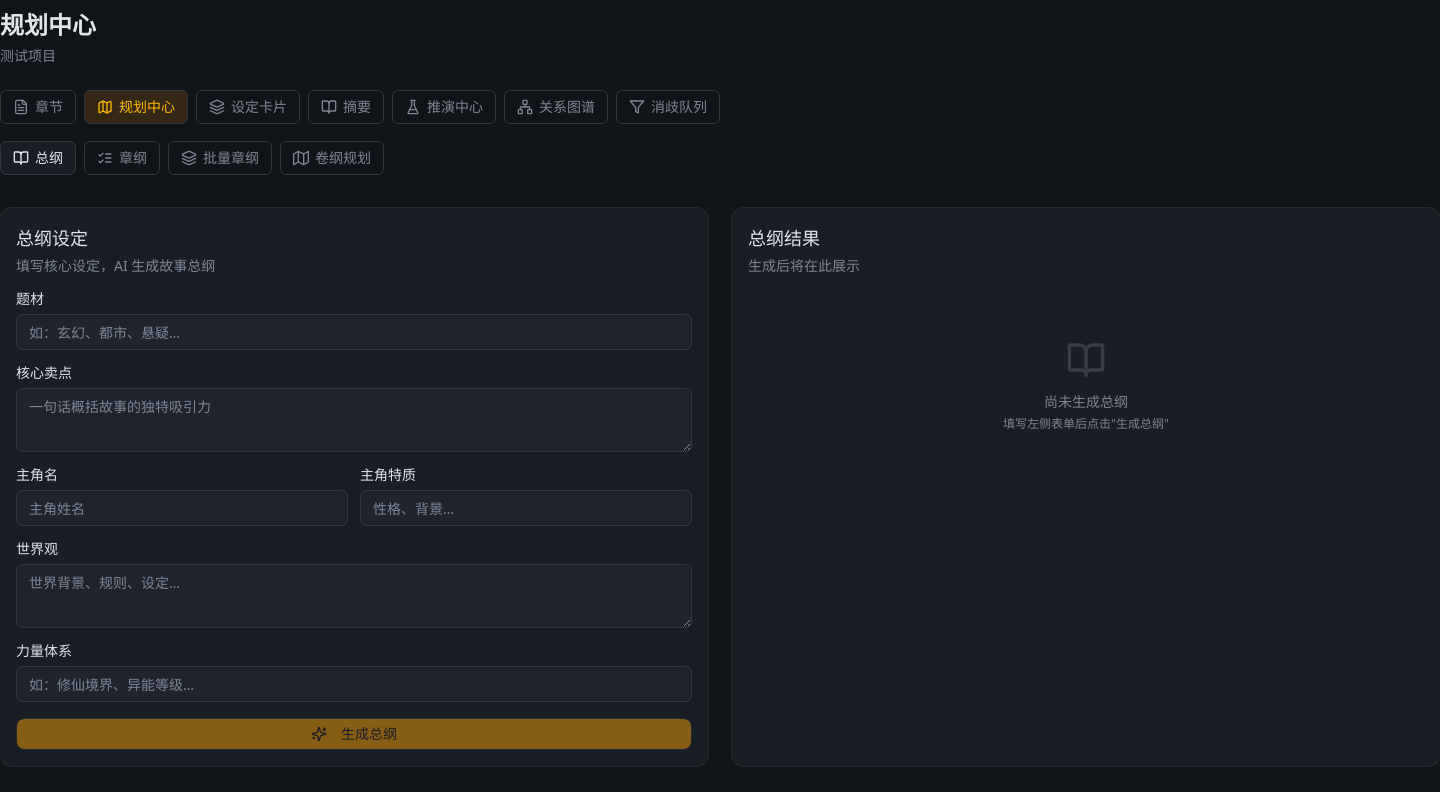
PlanningCenter › batch: shows results after generation
expect the text "测试项目" is shown: met, box top-left (0, 46), bottom-right (56, 65)
Click the tab "批量章纲". click: (220, 158)
box: top-left (168, 141), bottom-right (272, 175)
(page scrolled)
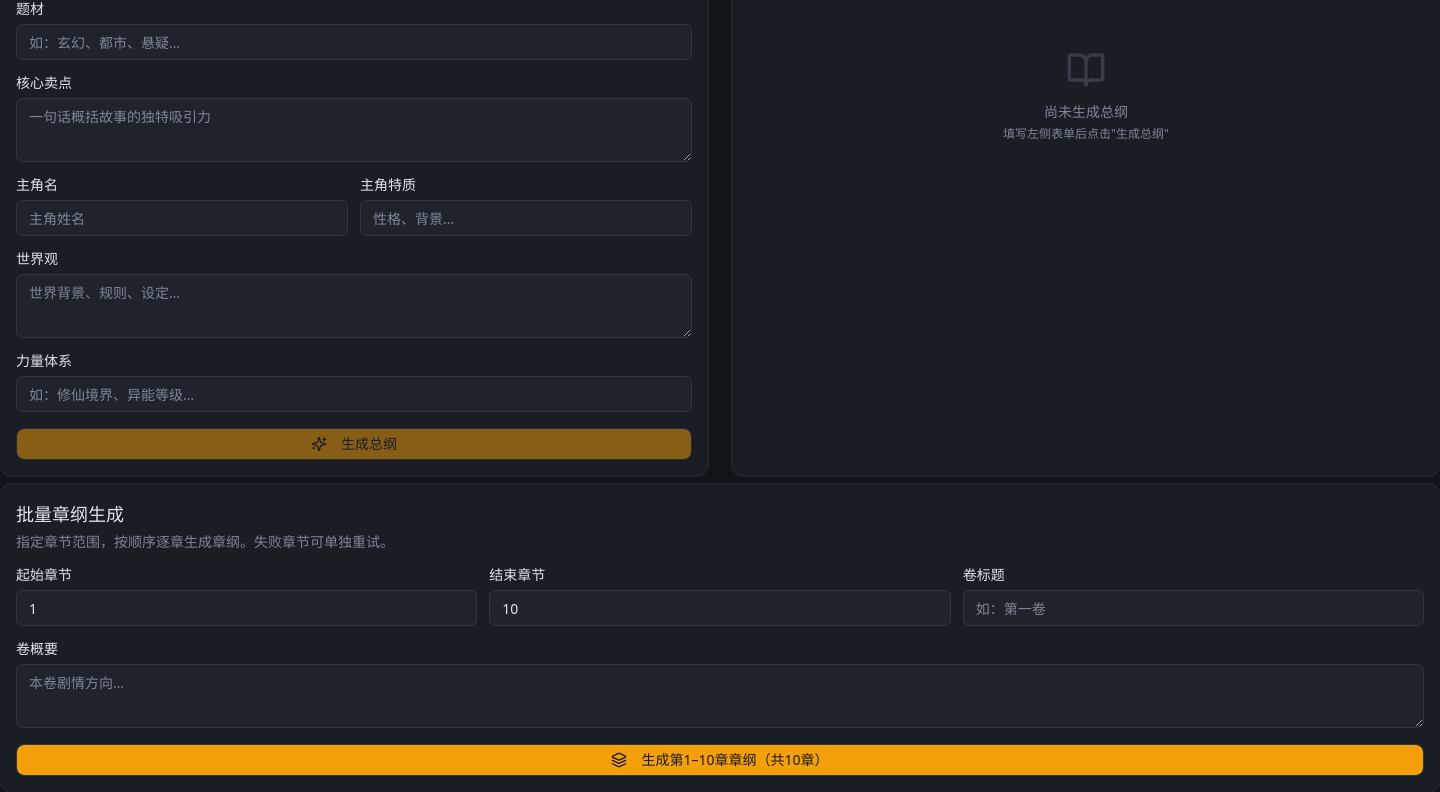
expect the button "生成第1–10章章纲（共10章）" is shown: met
Click the button "生成第1–10章章纲（共10章）". click: (720, 760)
box: top-left (16, 744), bottom-right (1424, 776)
(page scrolled)
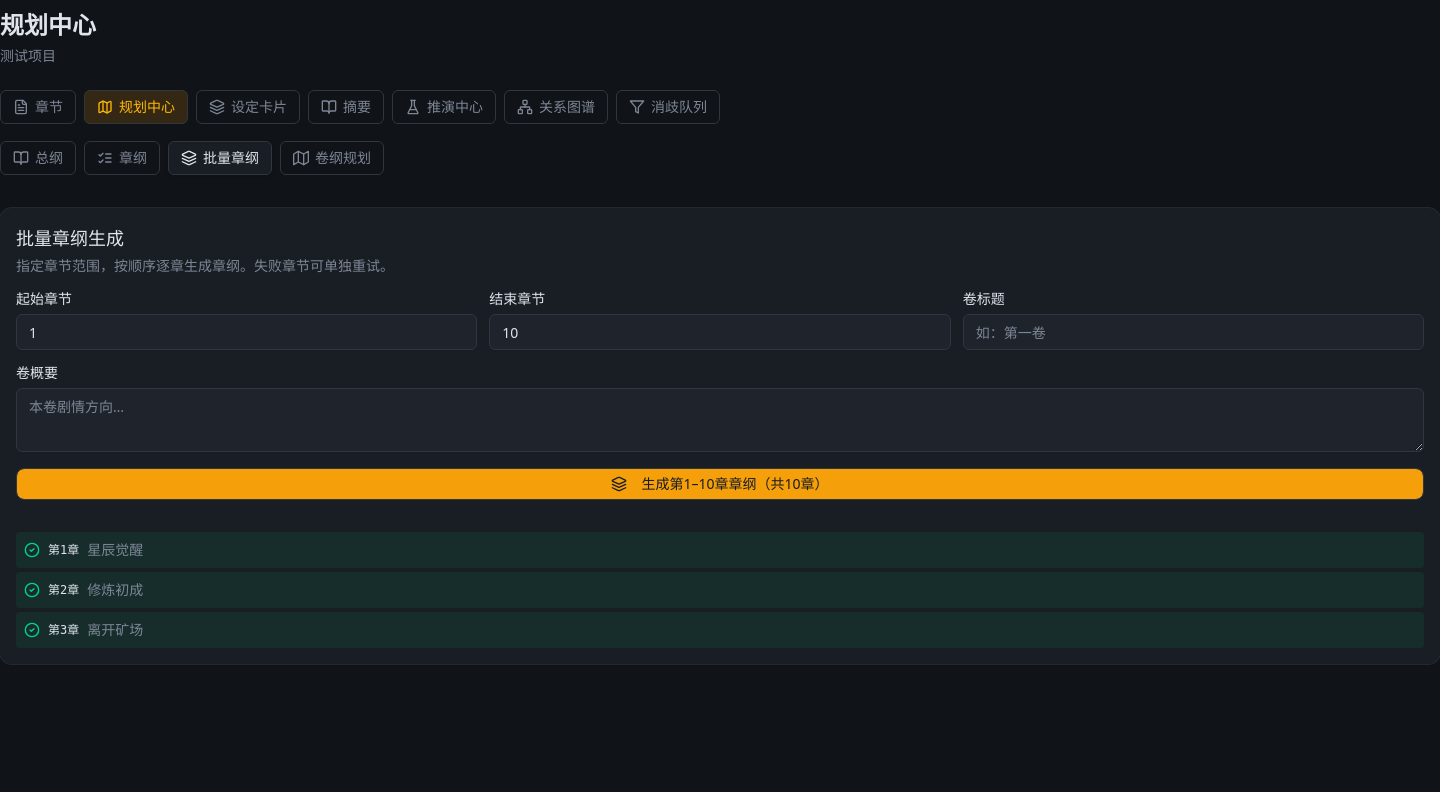
expect the text "星辰觉醒" is shown: met, box top-left (87, 540), bottom-right (143, 560)
